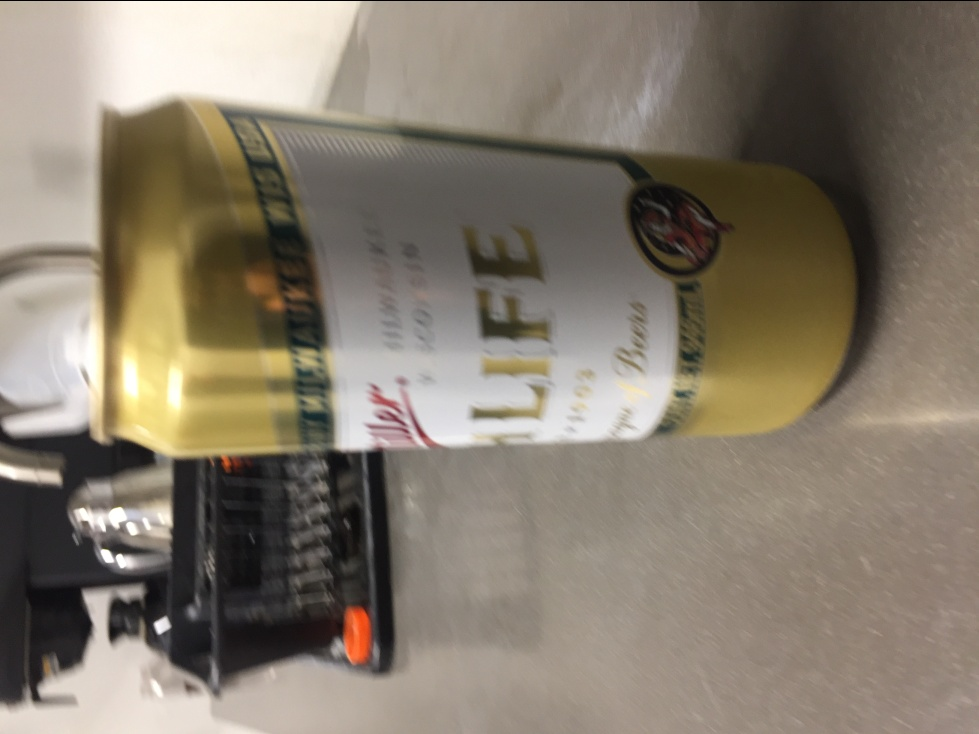miller: (87, 93, 867, 458)
